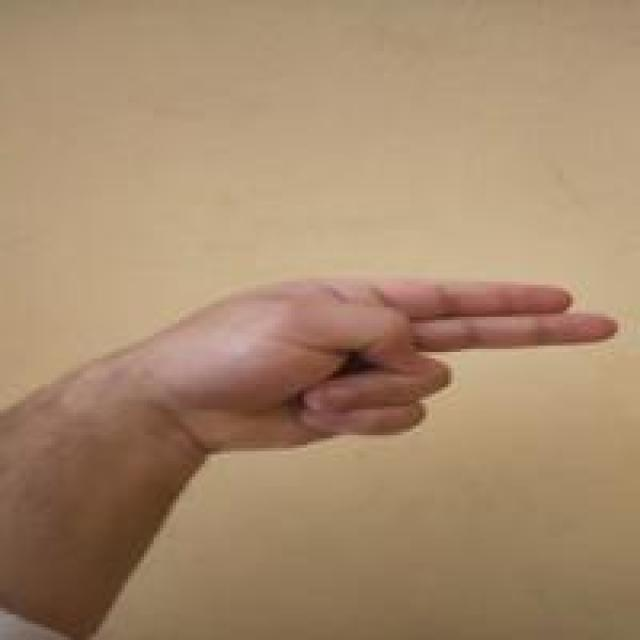H: (145, 277, 622, 456)
